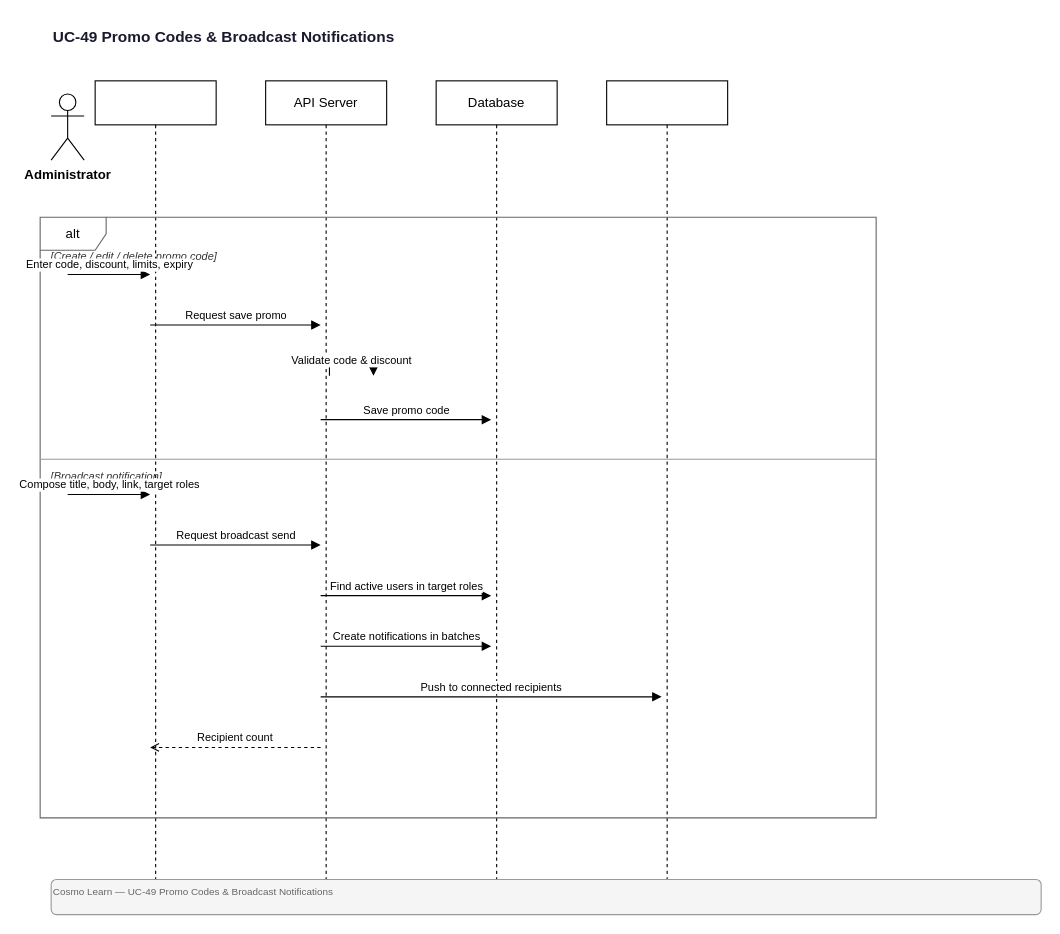
This 1060x934 diagram has some shape labels left out. Each missing label, with the box of its shape:
Real-time channel (WebSocket): (606, 80, 728, 882)
Web UI (Admin): (94, 80, 216, 882)
